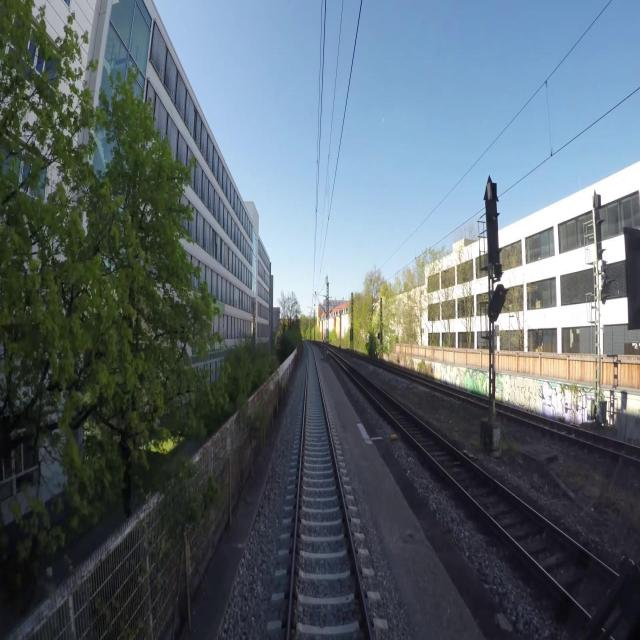rail-track: (291, 348, 369, 639)
